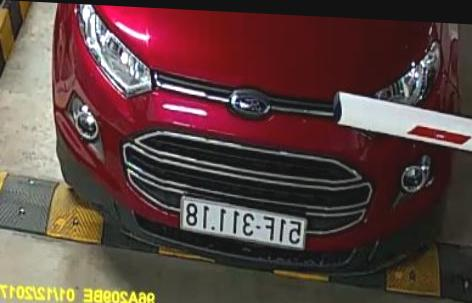License_Plate: (179, 196, 309, 249)
